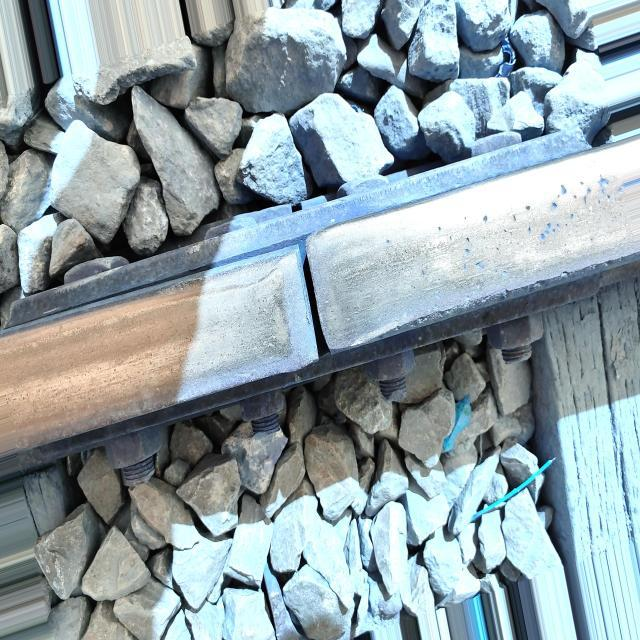Good Joint: (14, 127, 605, 500)
